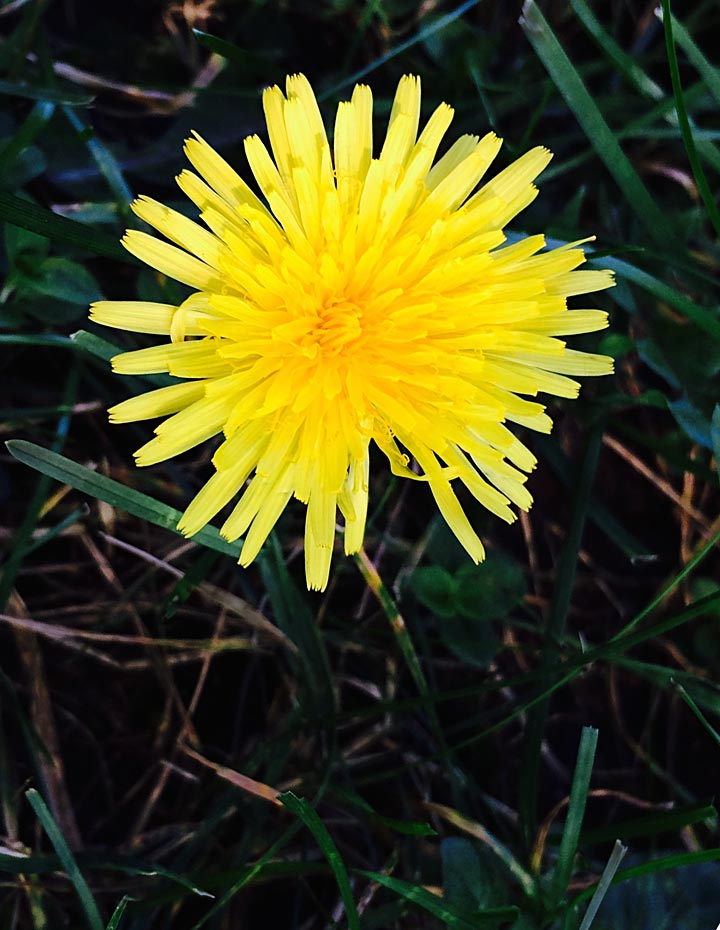dandelion: (87, 71, 598, 568)
